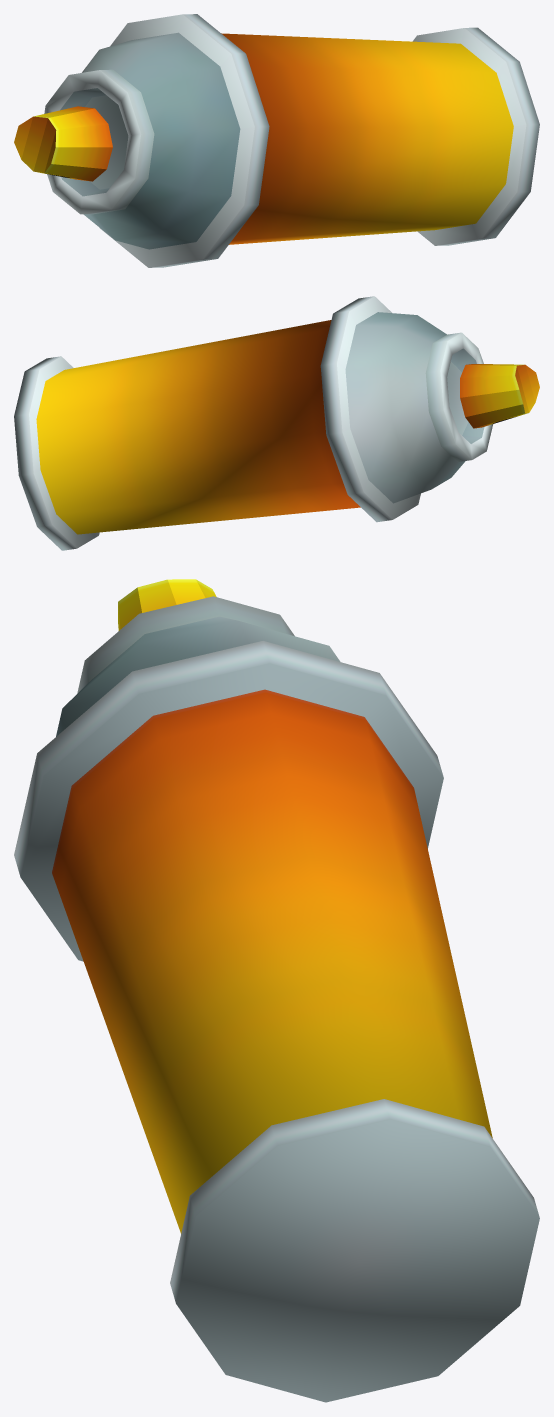
Rendered from Spraycan.glb.
The picture shows the model from 3 angles, top to bottom: view 1: azimuth 30°, elevation 25°; view 2: azimuth 150°, elevation 25°; view 3: azimuth 270°, elevation 25°; orthographic projection. The views are drawn at different scales.
Visible parts, largest first — view 1: Spraycan; view 2: Spraycan; view 3: Spraycan.
Boxes of the visible parts, x1,y1,x2,y2 form: Spraycan: (14,14,539,267); Spraycan: (14,296,539,550); Spraycan: (14,579,539,1402).
Size of the model in its own units: 1.97 by 1.13 by 1.02.
Materials: 1 (1 with a texture image).
